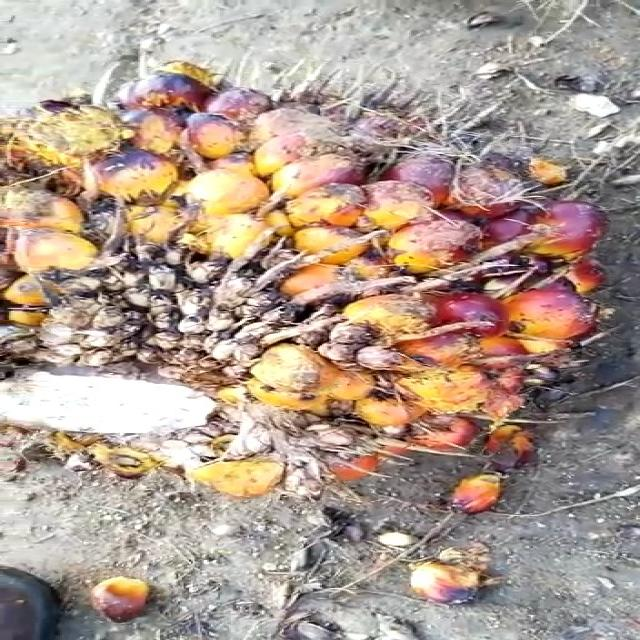palm oil: (0, 59, 640, 539)
